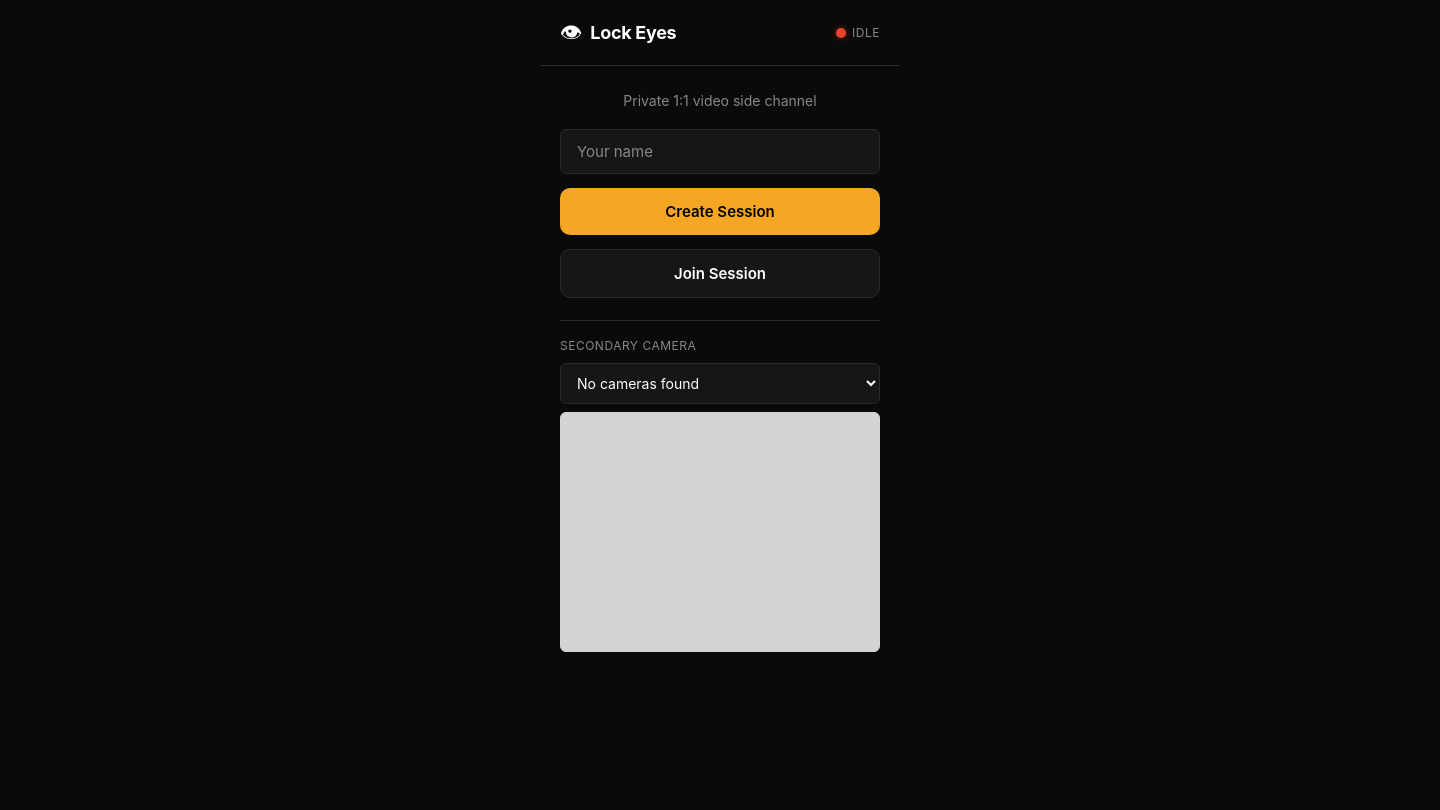
App › code generation display › shows the session code in waiting state
Step 1. Click the button "Create Session" → (720, 212), box [560,188,880,235]
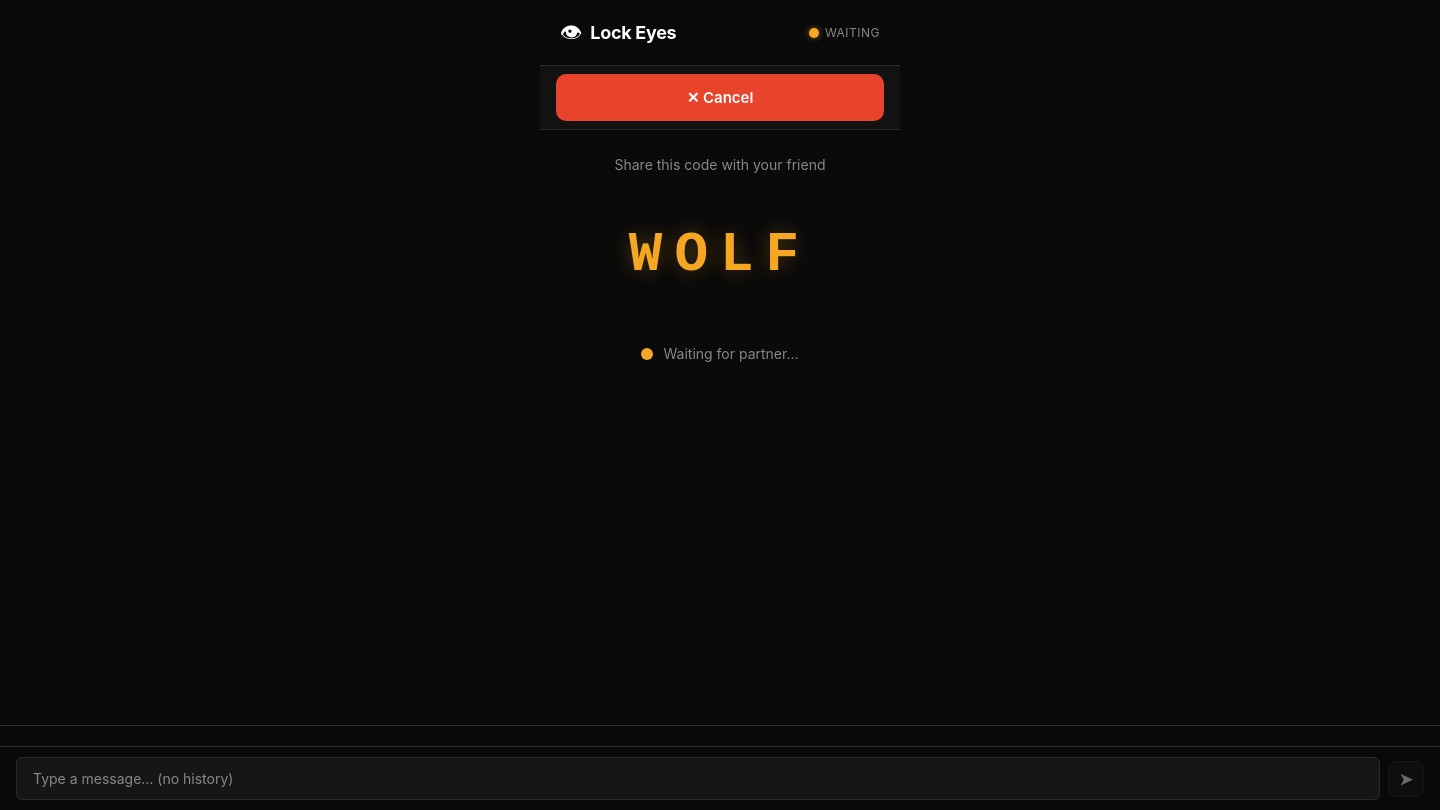
Check: the text "Share this code with your friend" is shown, box [614,154,826,175]
